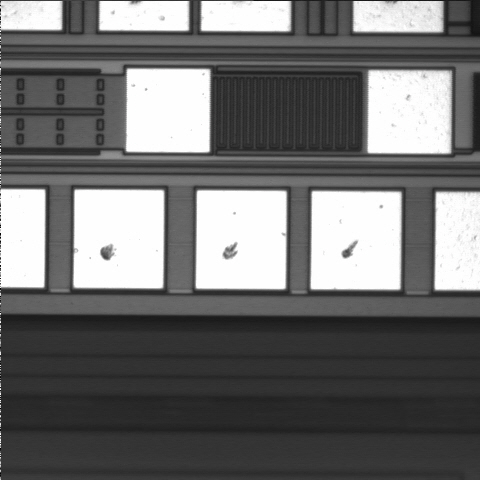pad: (196, 190, 286, 289), (74, 190, 164, 288), (311, 191, 401, 289), (126, 69, 210, 152), (368, 71, 451, 153)
